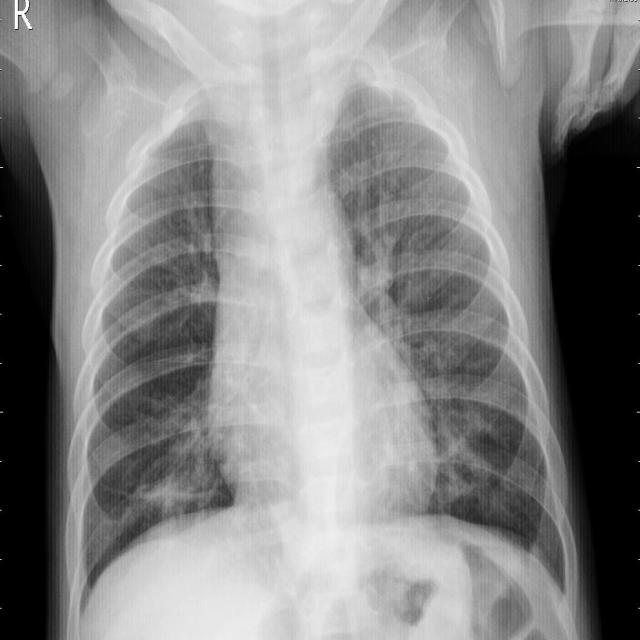low-pneumonia: (344, 44, 464, 199), (148, 409, 219, 520), (349, 235, 420, 337), (143, 67, 212, 160)
